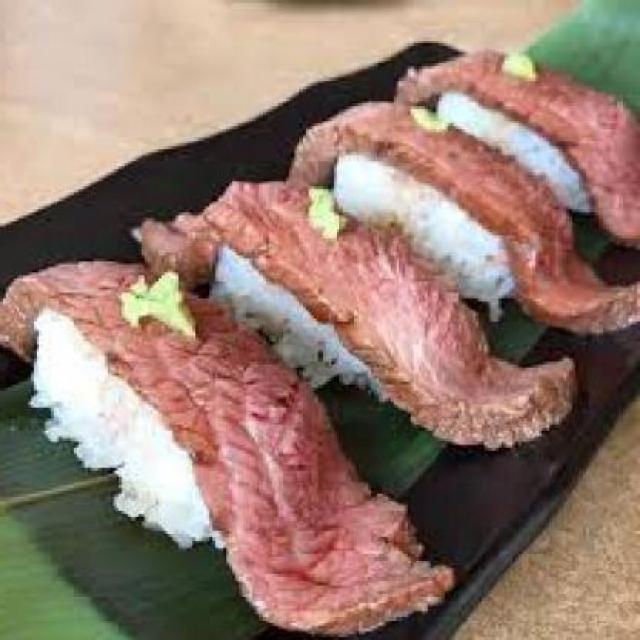steak: (161, 52, 637, 410), (223, 419, 414, 626)
